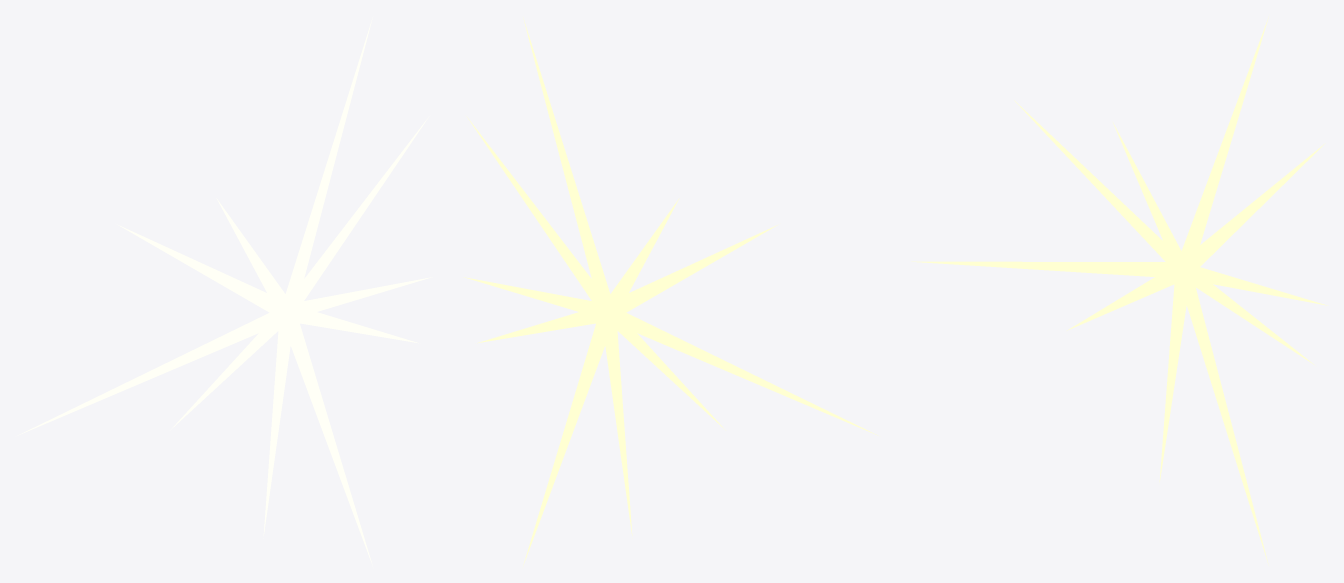
Rendered from vfx_spark_flash.glb.
3 renders of one model, left to right at view 1: azimuth 30°, elevation 25°; view 2: azimuth 150°, elevation 25°; view 3: azimuth 330°, elevation 25°, orthographic.
Parts seen in each view (by area): view 1: spark_2_a, spark_5_a, spark_8_a, spark_4_a, spark_1_a, spark_7_a, spark_9_a, spark_6_a, spark_3_a, spark_0_a; view 2: spark_2_a, spark_5_a, spark_8_a, spark_7_a, spark_1_a, spark_4_a, spark_9_a, spark_6_a, spark_3_a, spark_0_a; view 3: spark_2_a, spark_5_a, spark_8_a, spark_7_a, spark_1_a, spark_4_a, spark_0_a, spark_3_a, spark_6_a, spark_9_a.
Part boxes in pixels (x1=…): spark_2_a: x1=280, y1=17, x2=372, y2=312; spark_5_a: x1=17, y1=313, x2=274, y2=435; spark_8_a: x1=290, y1=322, x2=372, y2=566; spark_4_a: x1=117, y1=224, x2=290, y2=319; spark_1_a: x1=282, y1=116, x2=429, y2=311; spark_7_a: x1=263, y1=313, x2=295, y2=538; spark_9_a: x1=284, y1=304, x2=418, y2=343; spark_6_a: x1=170, y1=313, x2=291, y2=430; spark_3_a: x1=216, y1=198, x2=287, y2=317; spark_0_a: x1=298, y1=277, x2=432, y2=311; spark_2_a: x1=523, y1=17, x2=614, y2=312; spark_5_a: x1=621, y1=313, x2=878, y2=435; spark_8_a: x1=523, y1=322, x2=605, y2=566; spark_7_a: x1=600, y1=311, x2=632, y2=538; spark_1_a: x1=466, y1=116, x2=613, y2=312; spark_4_a: x1=608, y1=224, x2=778, y2=319; spark_9_a: x1=477, y1=304, x2=607, y2=343; spark_6_a: x1=608, y1=307, x2=725, y2=430; spark_3_a: x1=603, y1=198, x2=679, y2=315; spark_0_a: x1=463, y1=277, x2=597, y2=311; spark_2_a: x1=1176, y1=16, x2=1268, y2=269; spark_5_a: x1=911, y1=261, x2=1183, y2=278; spark_8_a: x1=1186, y1=280, x2=1268, y2=565; spark_7_a: x1=1159, y1=268, x2=1190, y2=482; spark_1_a: x1=1178, y1=143, x2=1325, y2=276; spark_4_a: x1=1014, y1=100, x2=1181, y2=271; spark_0_a: x1=1183, y1=262, x2=1328, y2=305; spark_3_a: x1=1113, y1=122, x2=1182, y2=269; spark_6_a: x1=1067, y1=264, x2=1179, y2=330; spark_9_a: x1=1194, y1=281, x2=1314, y2=364.
Bounding box in the file's own units: 0.6316 × 0.7989 × 0.
